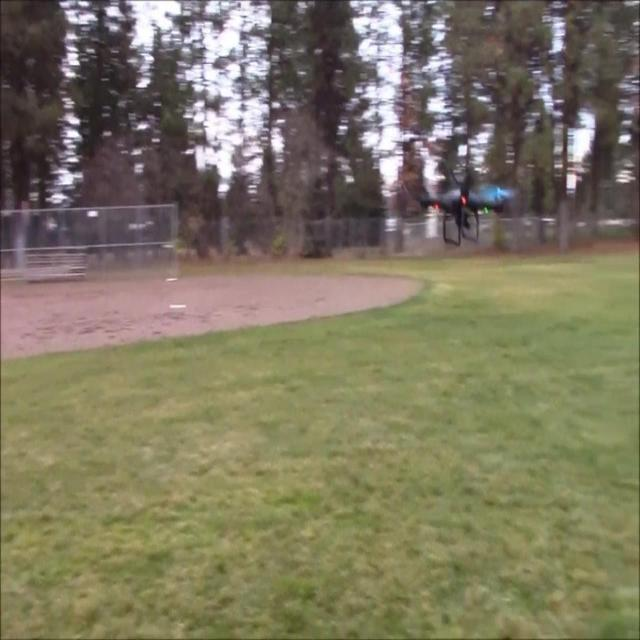UAV: (420, 167, 518, 245)
